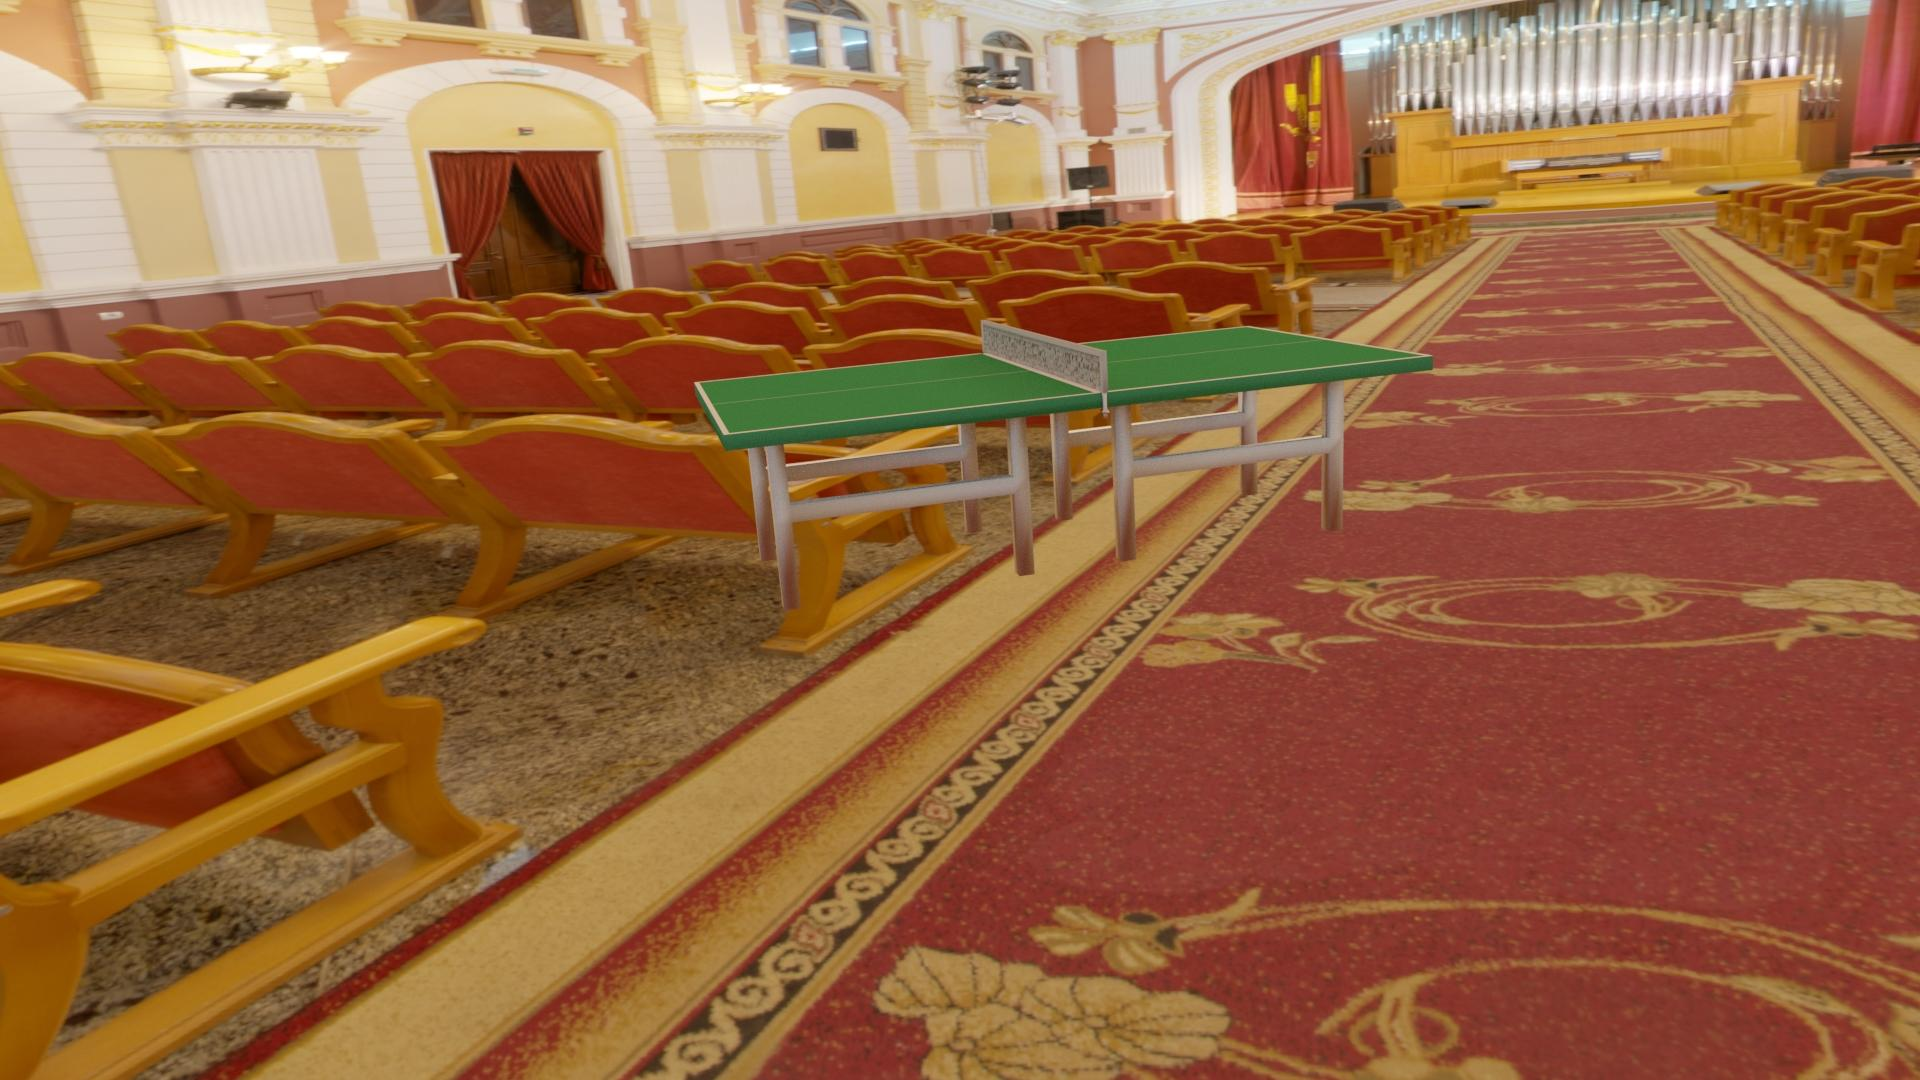table: (699, 327, 1425, 434)
